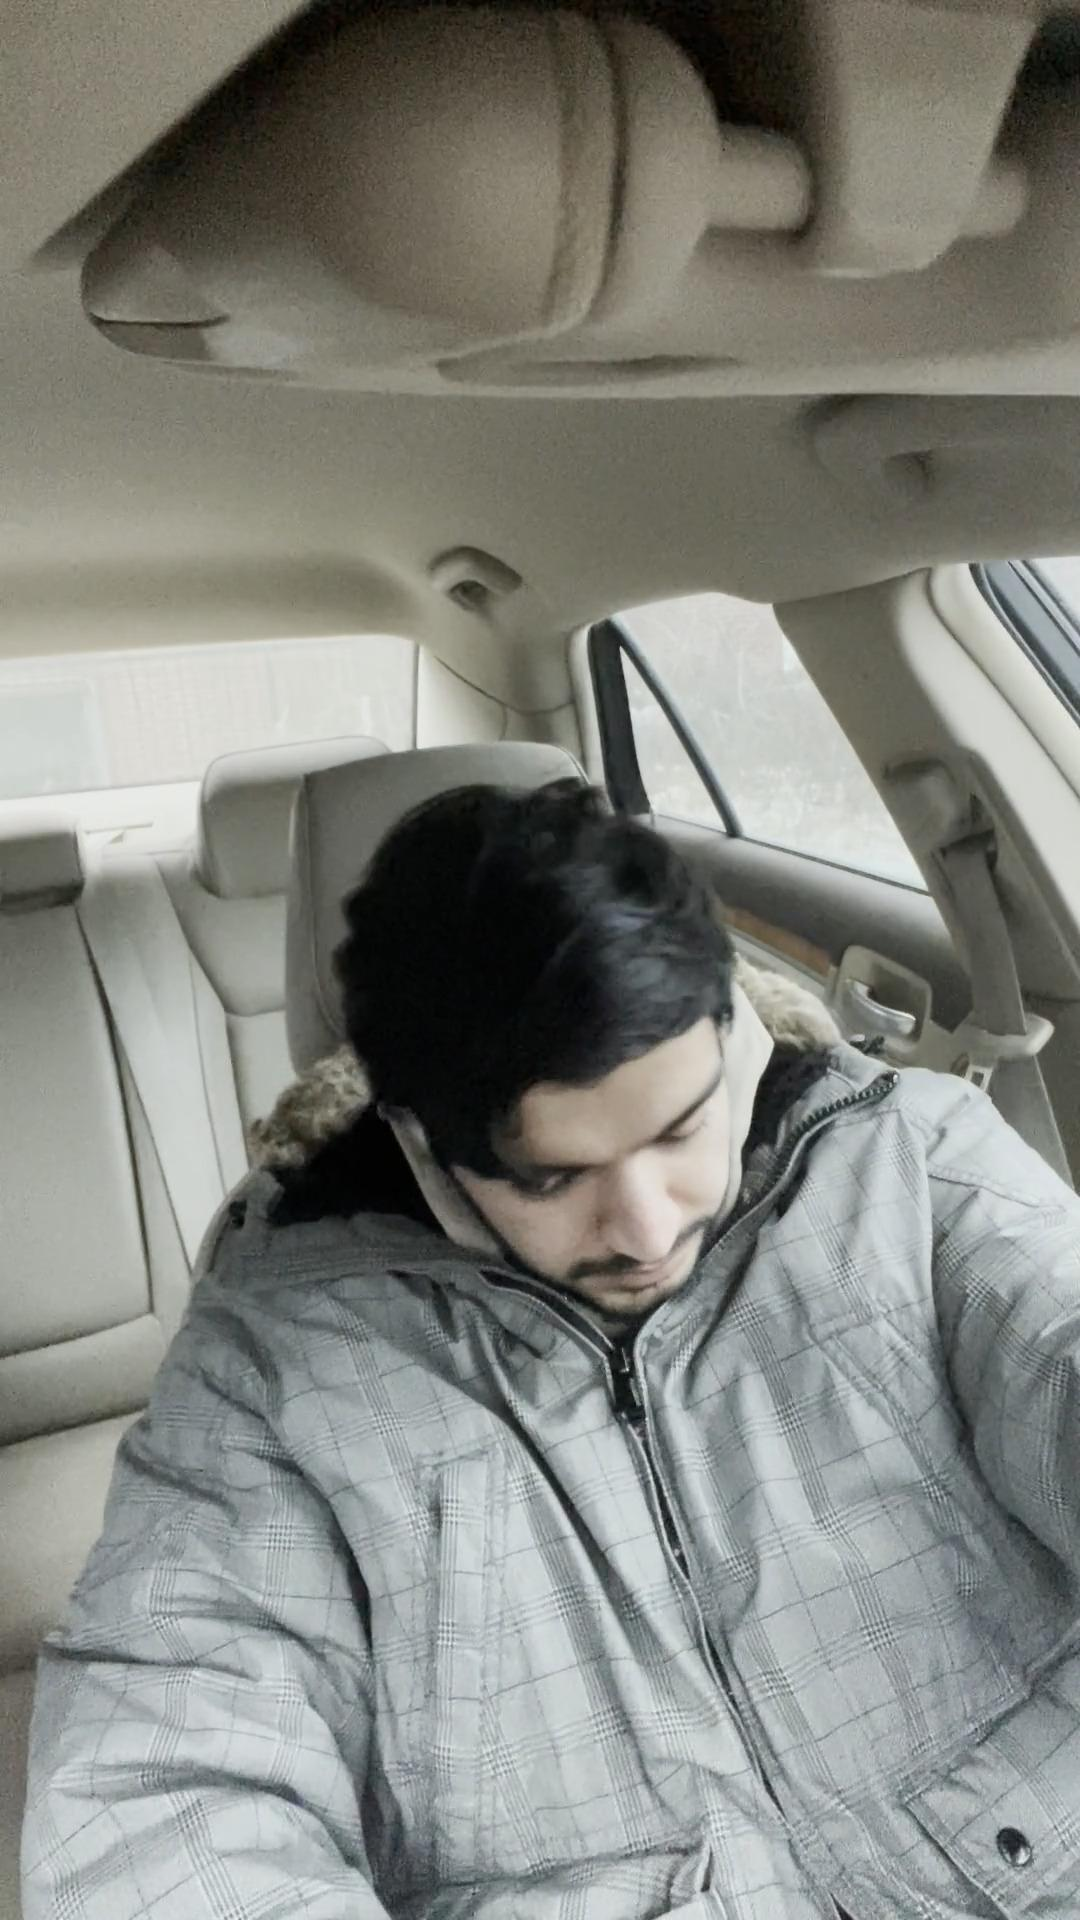no_seatbelt: (396, 1220, 1080, 1920)
